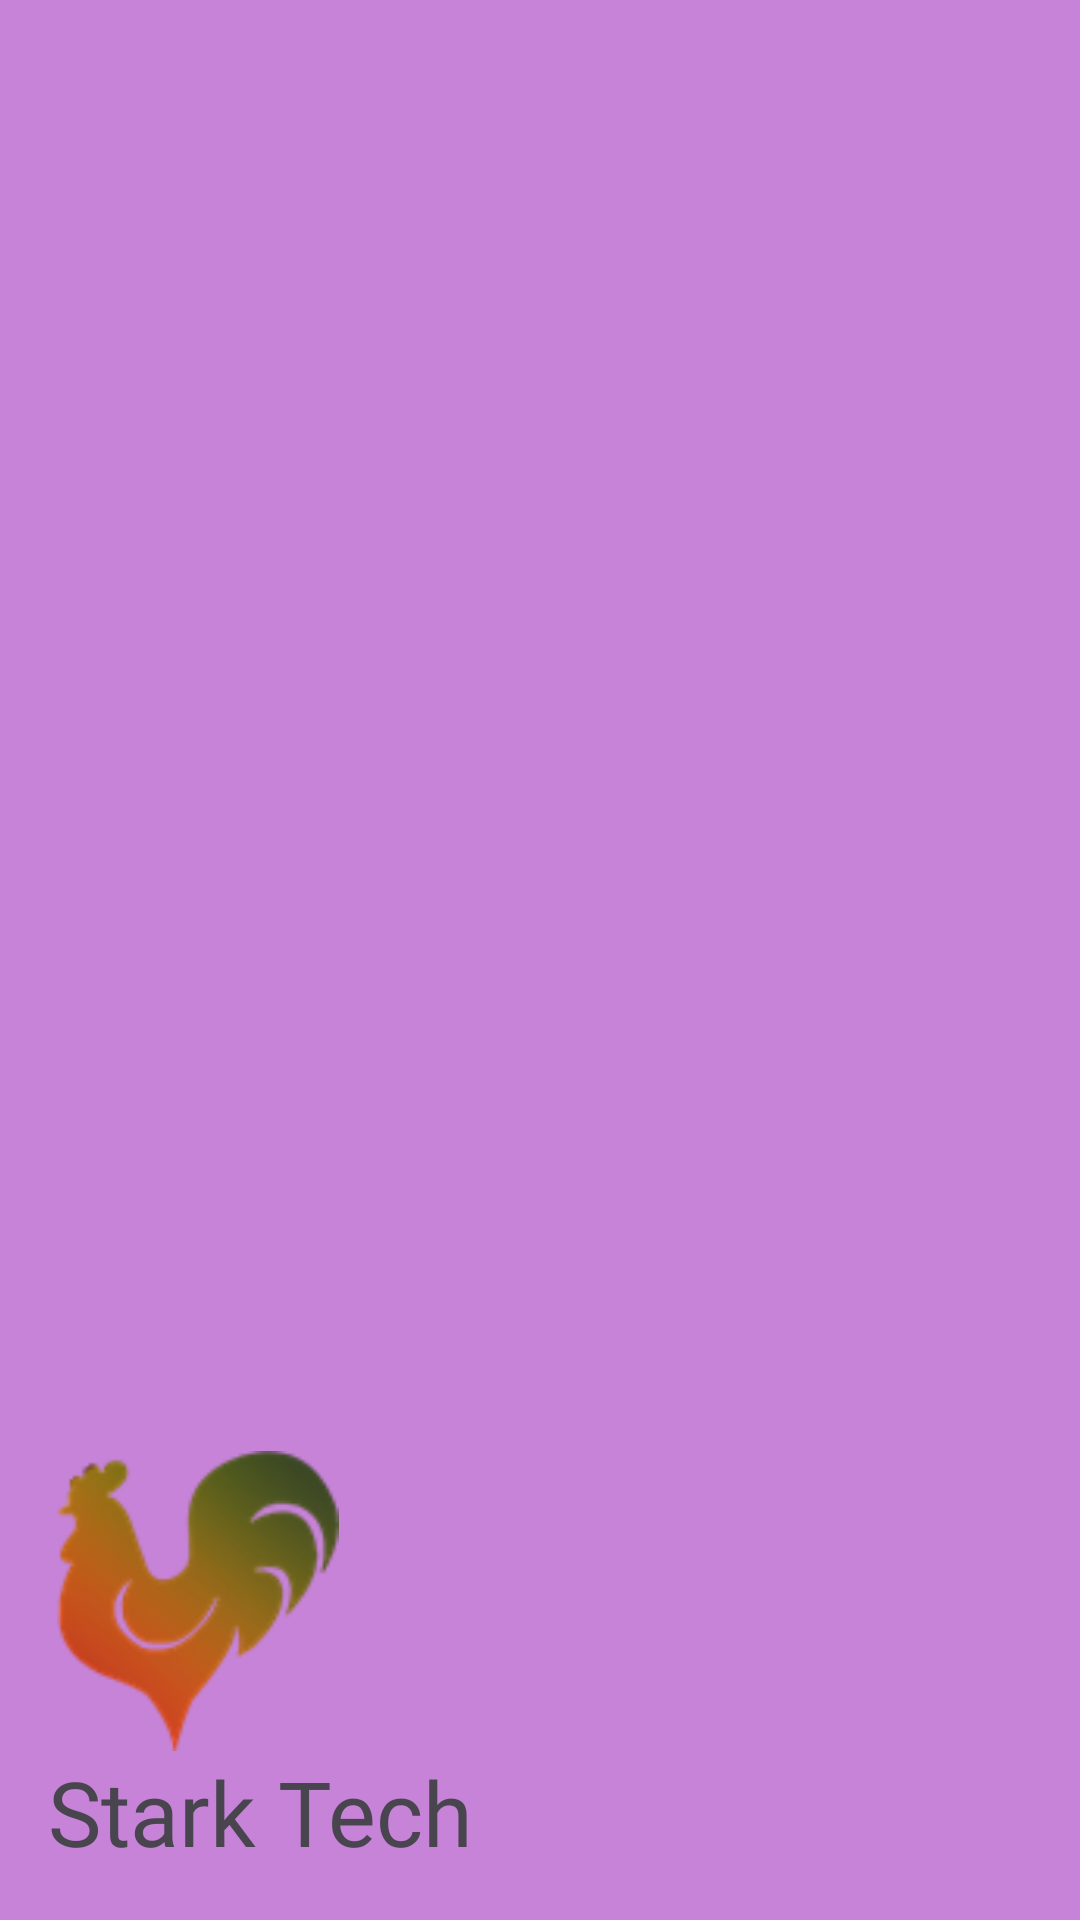

Screen size 1080x1920. Icon name, then its center in pixels as point (x, y):
hen: point (198, 1601)
